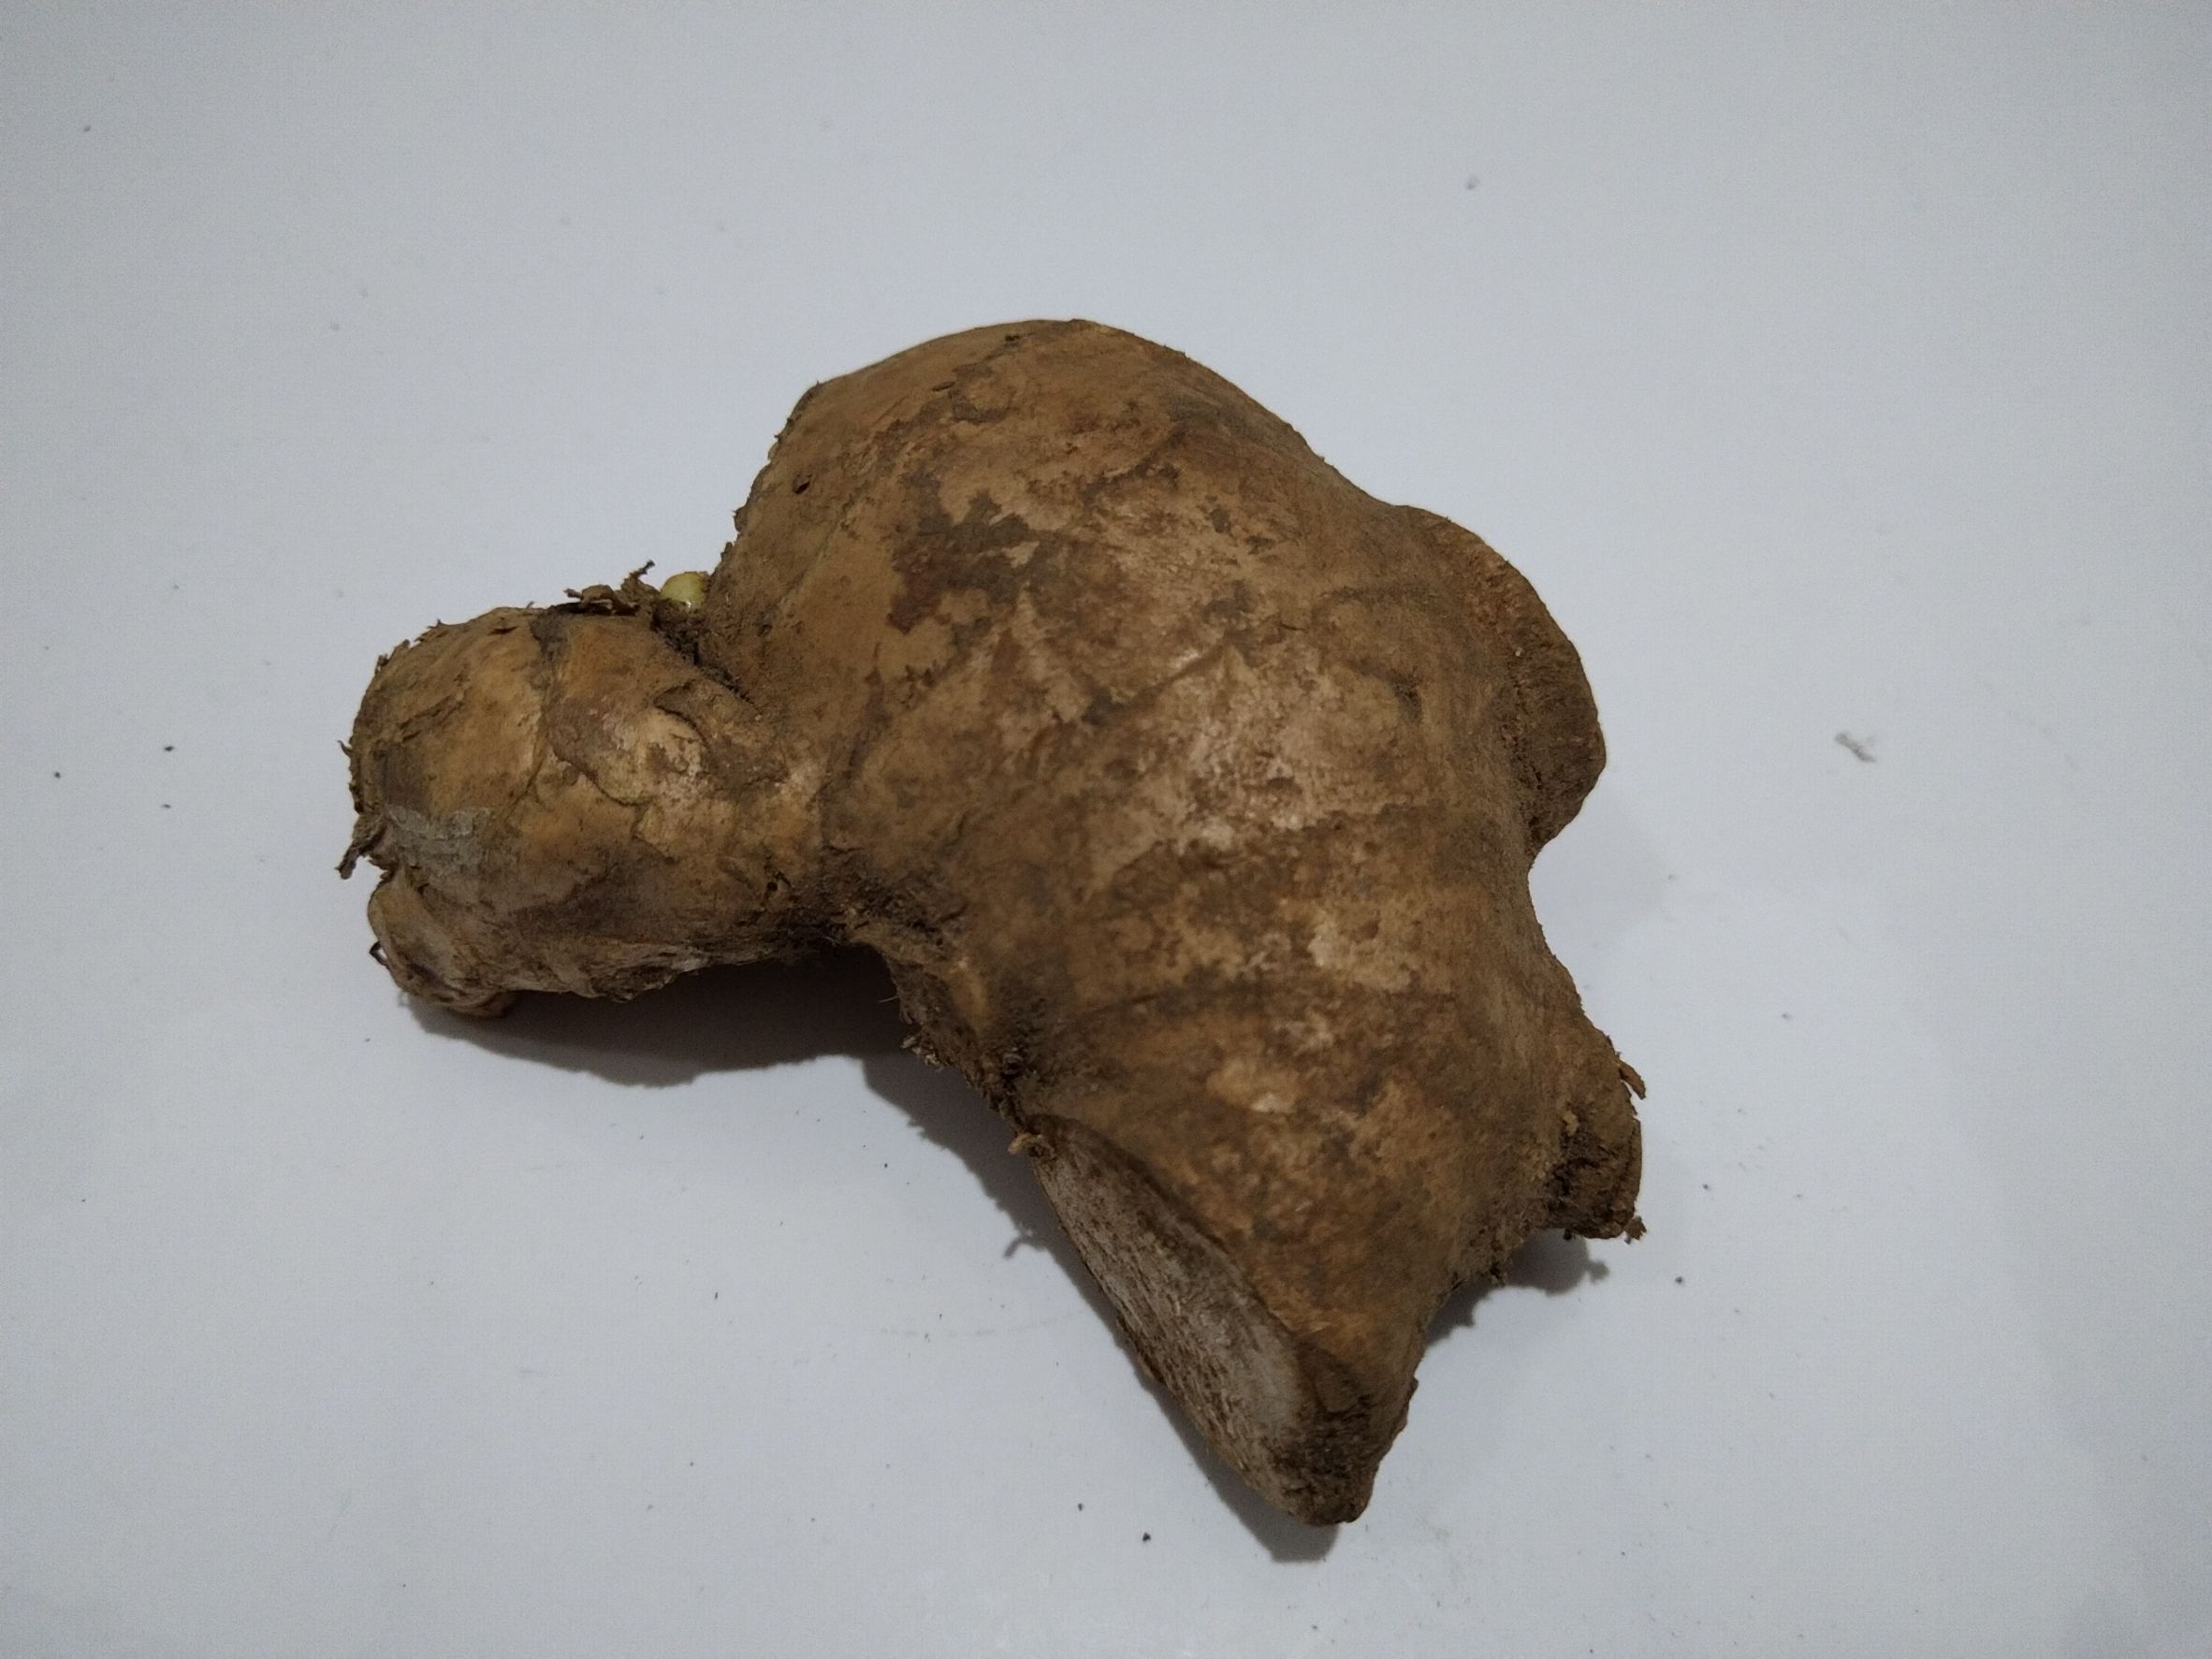Jahe: (364, 349, 1658, 1525)
